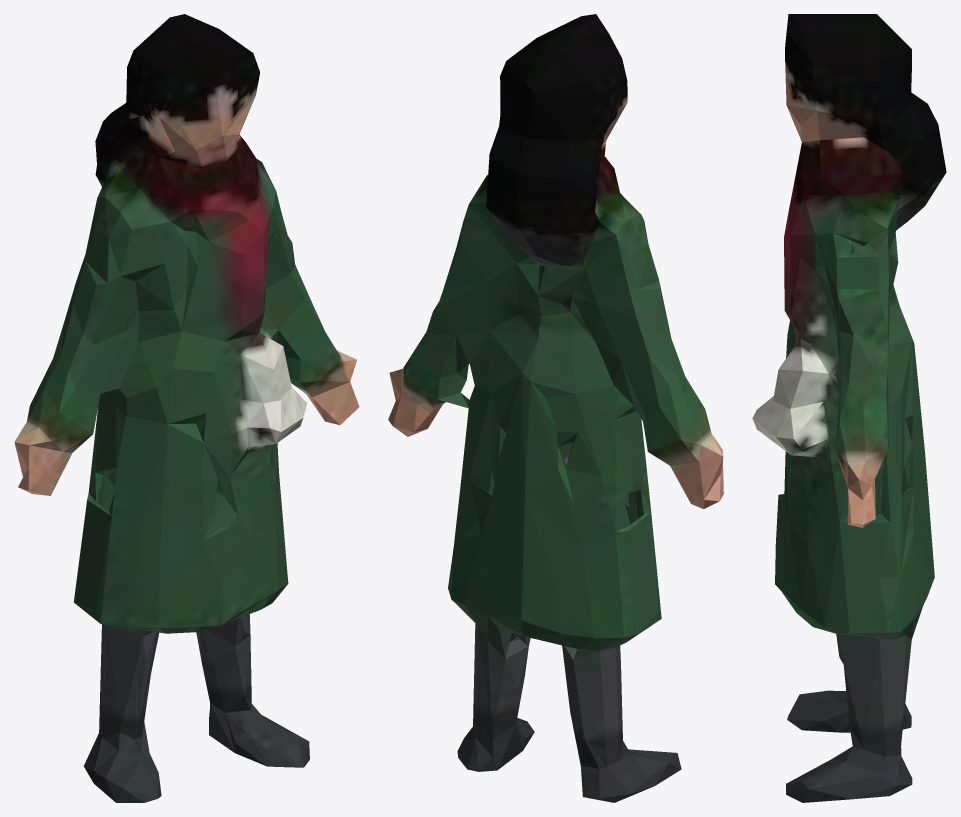
Rendered from habitant-loin.glb.
3 views of the same model, side by side, from view 1: azimuth 30°, elevation 25°; view 2: azimuth 150°, elevation 25°; view 3: azimuth 270°, elevation 25° (orthographic).
Visible parts, largest first — view 1: habitant; view 2: habitant; view 3: habitant.
Part boxes in pixels (x1=…): habitant: x1=14, y1=14, x2=359, y2=802; habitant: x1=388, y1=14, x2=723, y2=802; habitant: x1=752, y1=14, x2=946, y2=802.
Bounding box in the file's own units: 0.484 × 1.01 × 0.2391.
1 material, 1 textured.
